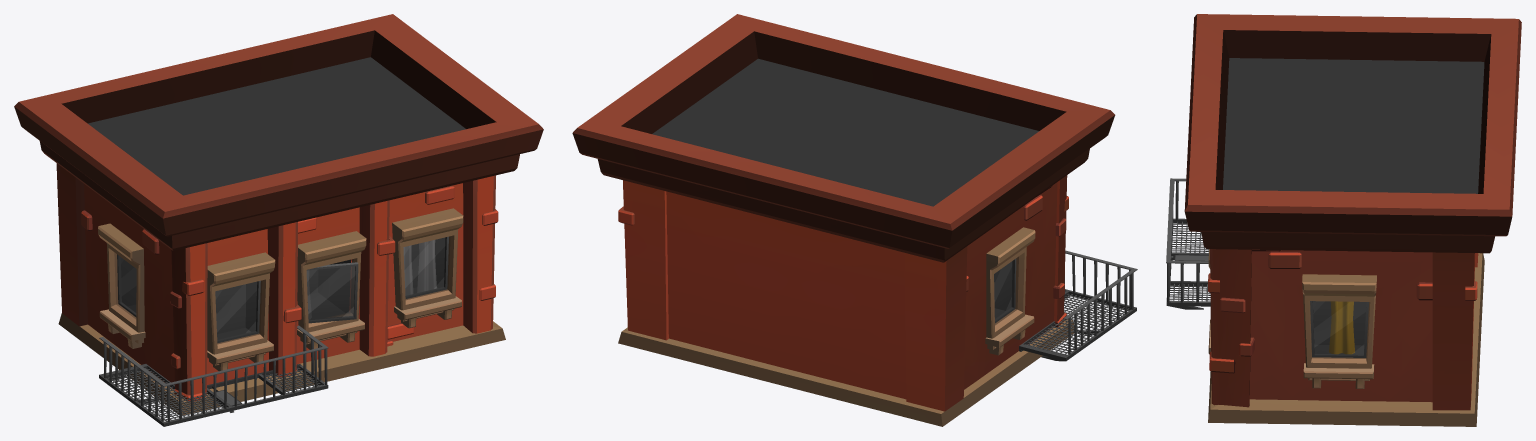
The model's file is upperWithRoof.glb.
3 renders of one model, left to right at view 1: azimuth 30°, elevation 25°; view 2: azimuth 150°, elevation 25°; view 3: azimuth 270°, elevation 25°, orthographic. The views are drawn at different scales.
Visible parts, largest first — view 1: MOVABLE_Upper_First_Floor; view 2: MOVABLE_Upper_First_Floor; view 3: MOVABLE_Upper_First_Floor.
Part boxes in pixels (x1,y1,x2,y2): MOVABLE_Upper_First_Floor: (14, 14, 543, 426); MOVABLE_Upper_First_Floor: (572, 14, 1137, 426); MOVABLE_Upper_First_Floor: (1166, 14, 1521, 426).
Bounding box in the file's own units: 5.43 × 2.9 × 4.02.
3 materials, 3 textured.
